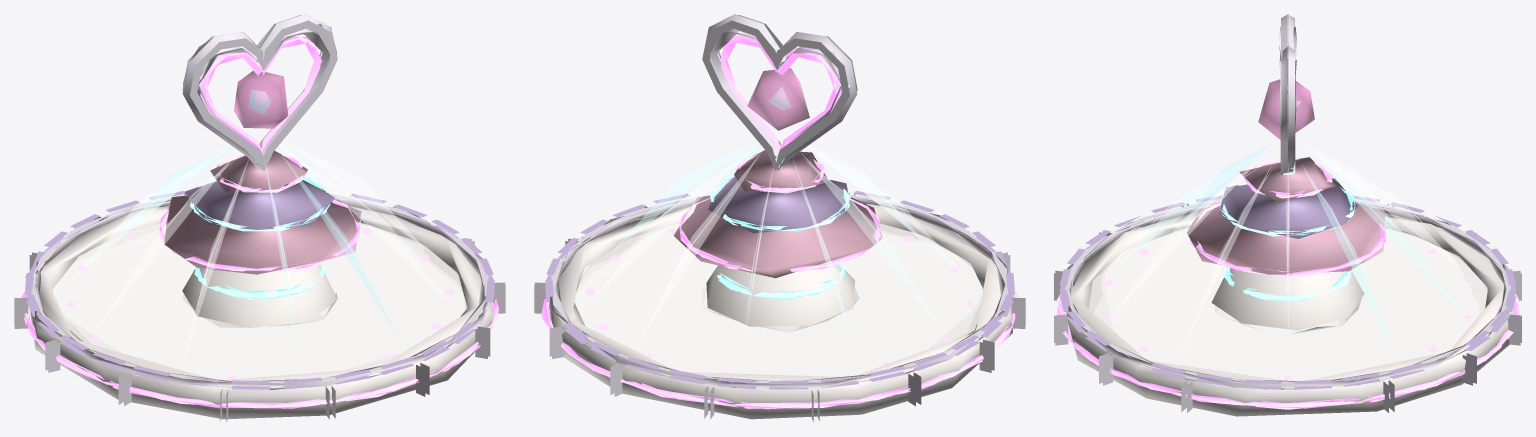
Rendered from lod_plaza_centerpiece.glb.
3 views of the same model, side by side, from view 1: azimuth 30°, elevation 25°; view 2: azimuth 150°, elevation 25°; view 3: azimuth 270°, elevation 25° (orthographic). The views are drawn at different scales.
Visible parts, largest first — view 1: plaza_centerpiece; view 2: plaza_centerpiece; view 3: plaza_centerpiece.
Boxes of the visible parts, x1=… form: plaza_centerpiece: x1=14, y1=14, x2=505, y2=422; plaza_centerpiece: x1=534, y1=14, x2=1025, y2=422; plaza_centerpiece: x1=1054, y1=14, x2=1521, y2=416.
Bounding box in the file's own units: 7.9 × 5.28 × 7.72.
